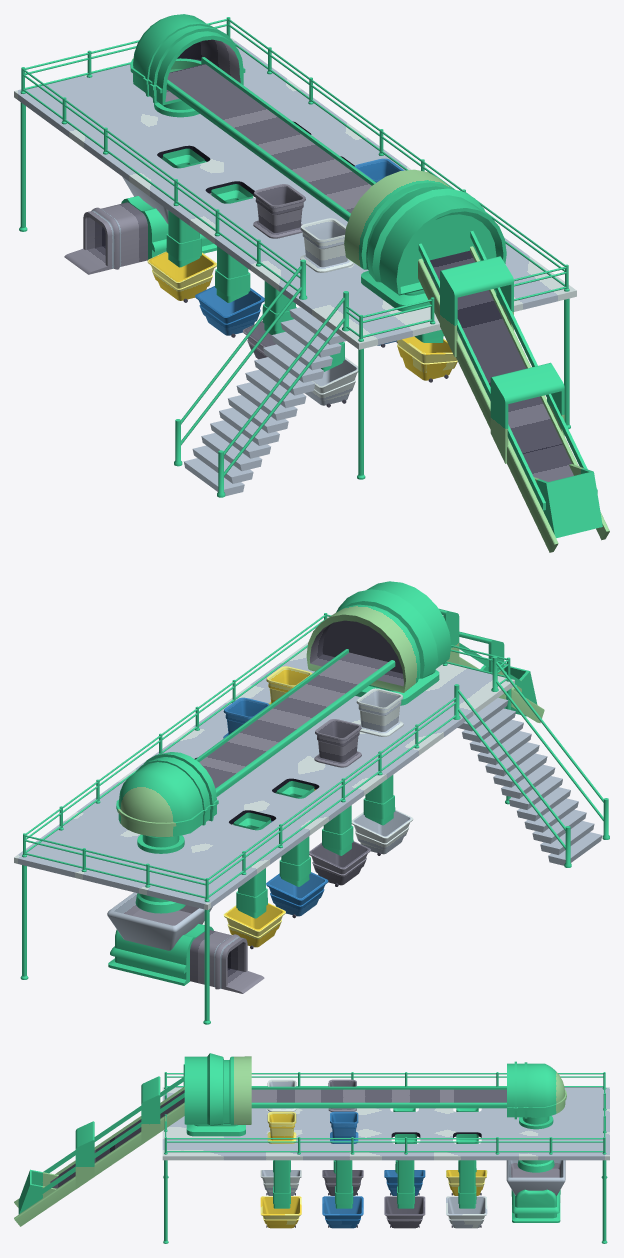
File: maquinaSeparacion.fbx
3 views of the same model, one above another, from view 1: azimuth 30°, elevation 25°; view 2: azimuth 150°, elevation 25°; view 3: azimuth 270°, elevation 25° (orthographic). The views are drawn at different scales.
Visible parts, largest first — view 1: maquina, suelo_maquina, barandas, escalera, maquina.001, pasamanos, separador_Am, separador_Az, separador_Bl.001, separador_Bl; view 2: maquina, suelo_maquina, barandas, escalera, maquina.001, pasamanos, separador_Az, separador_Ng, separador_Bl, separador_Am; view 3: maquina, suelo_maquina, barandas, maquina.001, separador_Am.001, separador_Ng.001, separador_Bl.001, separador_Az.001, separador_Am, separador_Ng, separador_Az, separador_Bl.
Part boxes in pixels (x1,y1,x2,y2): maquina: (64,14,609,552); suelo_maquina: (14,38,576,349); barandas: (19,17,570,479); escalera: (183,307,346,496); maquina.001: (167,64,371,213); pasamanos: (174,259,349,497); separador_Am: (147,251,216,302); separador_Az: (195,286,264,337); separador_Bl.001: (397,336,457,382); separador_Bl: (305,357,358,407); maquina: (107,581,544,993); suelo_maquina: (14,642,514,910); barandas: (20,613,511,1024); escalera: (457,697,602,865); maquina.001: (199,652,387,788); pasamanos: (453,656,609,867); separador_Az: (266,872,328,918); separador_Ng: (309,841,370,886); separador_Bl: (351,810,413,855); separador_Am: (223,903,285,949); maquina: (14,1053,566,1226); suelo_maquina: (162,1087,609,1160); barandas: (163,1072,607,1243); maquina.001: (251,1089,506,1102); separador_Am.001: (446,1196,487,1228); separador_Ng.001: (322,1196,363,1228); separador_Bl.001: (260,1196,301,1228); separador_Az.001: (384,1196,425,1228); separador_Am: (446,1170,487,1195); separador_Ng: (322,1170,363,1195); separador_Az: (384,1170,425,1195); separador_Bl: (260,1170,301,1195).
Bounding box in the file's own units: 24.45 × 17.02 × 56.98.
